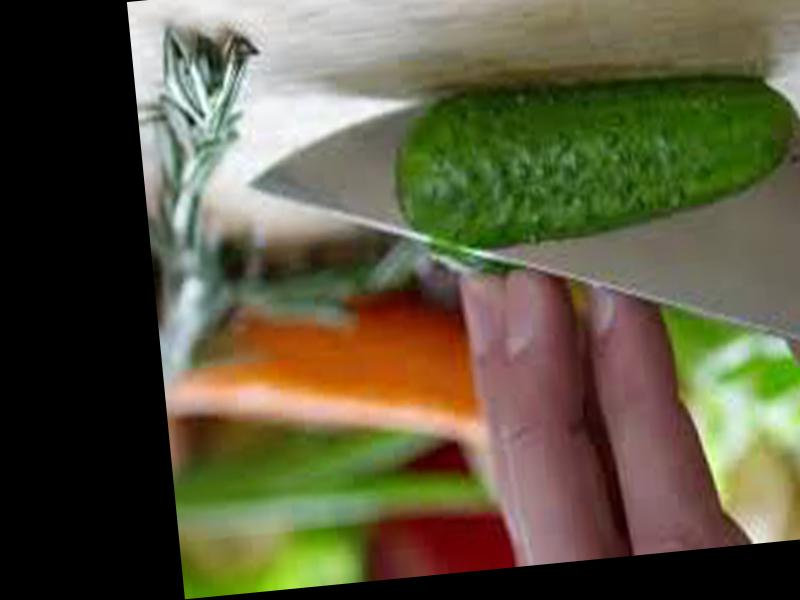Cucumber: (385, 55, 800, 258)
